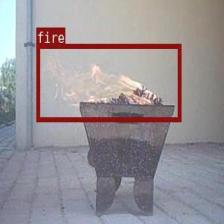fire: (36, 43, 180, 121)
